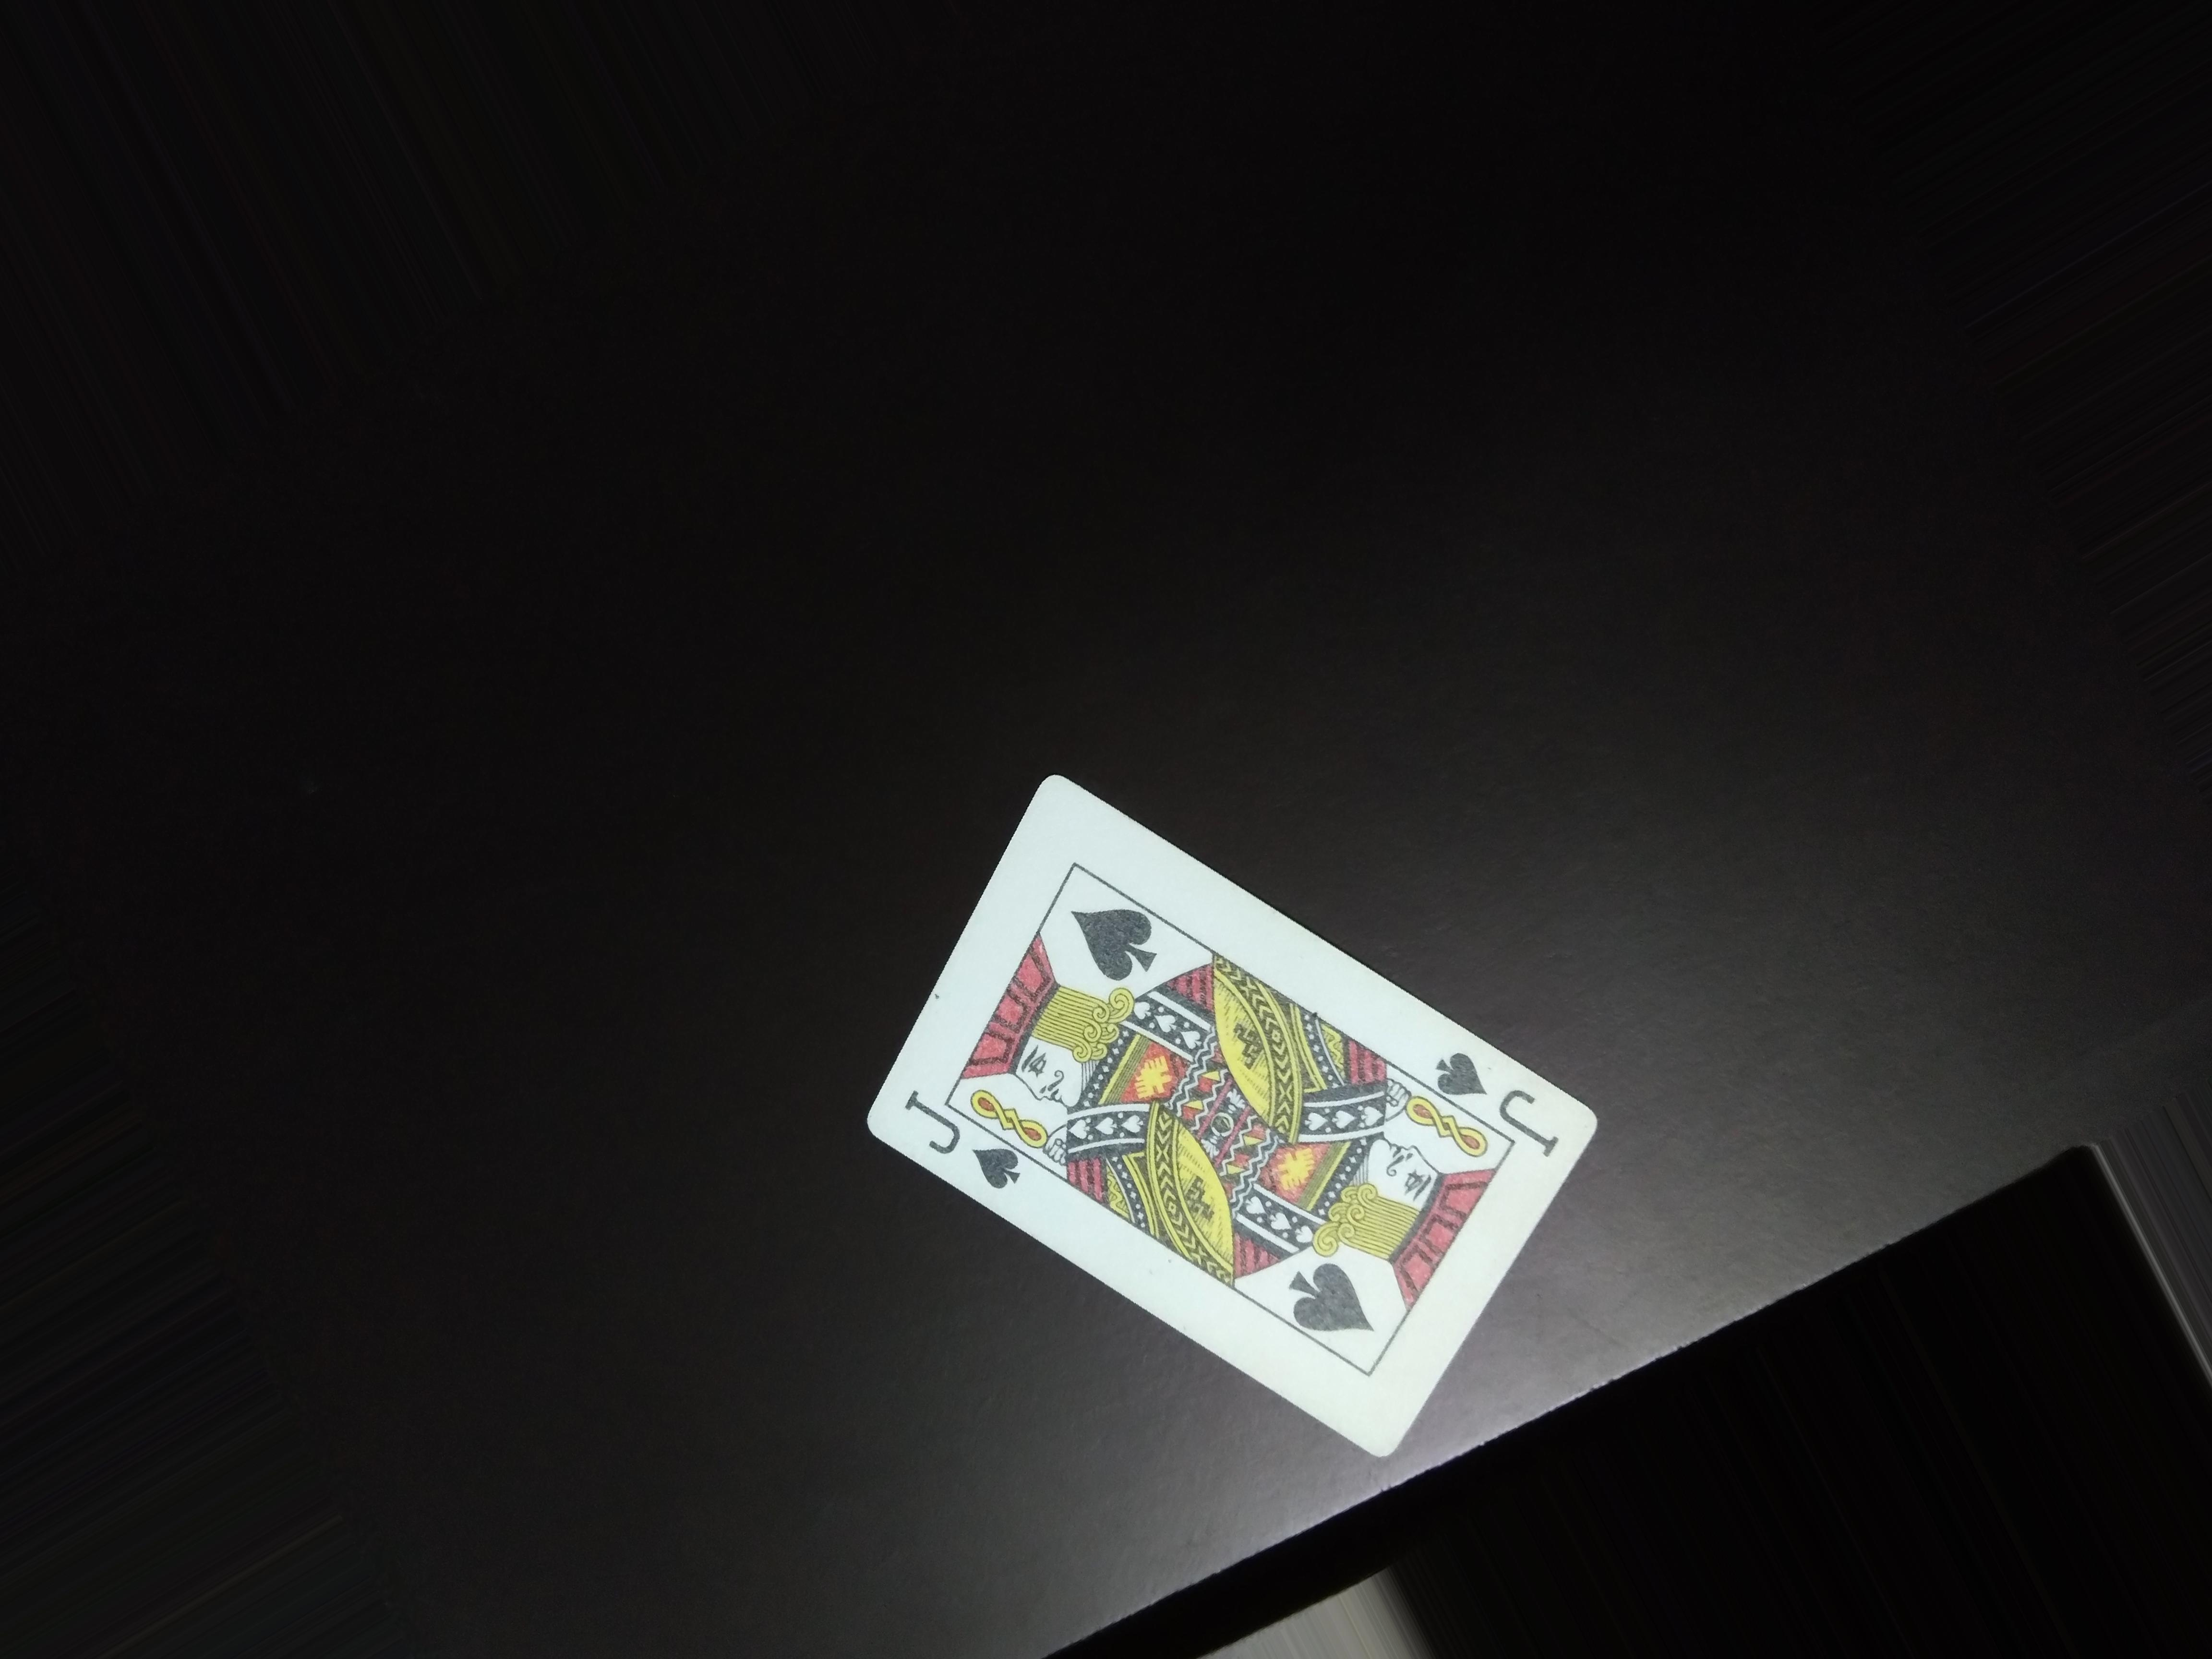JS: (1428, 1033, 1568, 1166)
